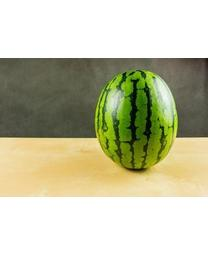watermelon: (92, 68, 178, 171)
